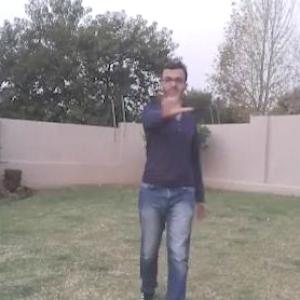follow_hand: (156, 78, 195, 118)
